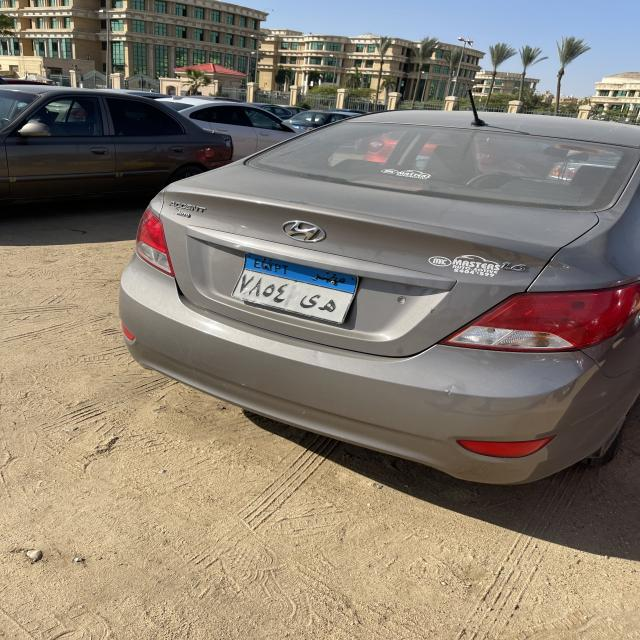License Plate: (231, 253, 359, 323)
